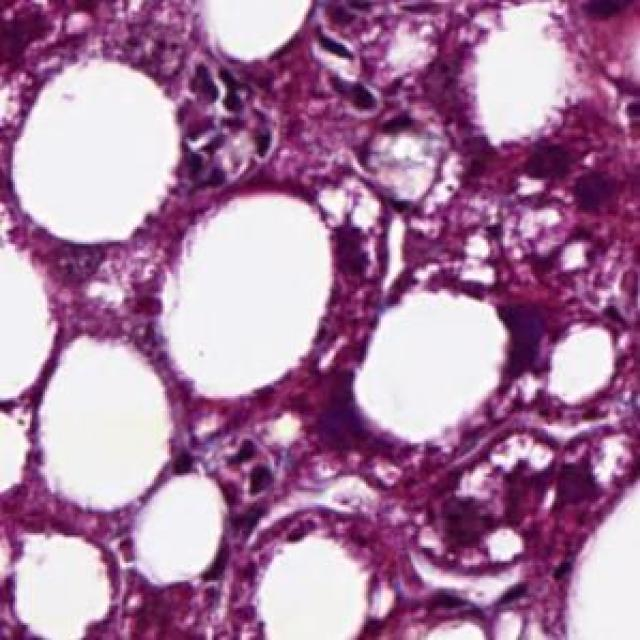inflammation: (524, 133, 621, 240), (546, 441, 618, 512)
